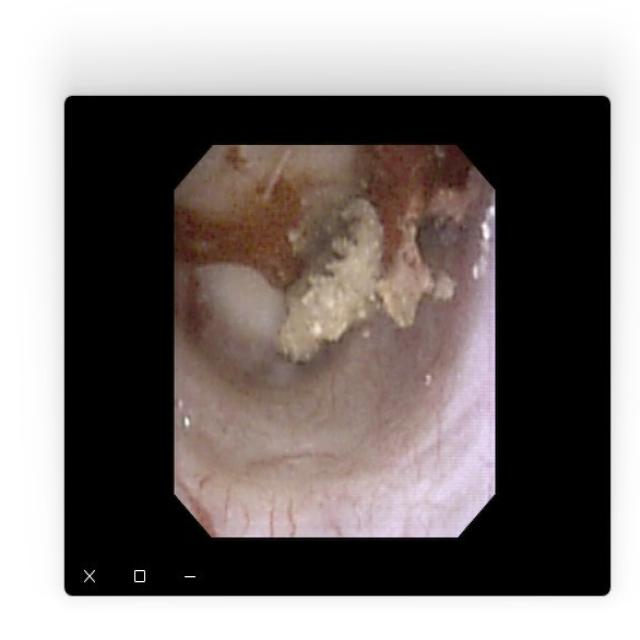stone: (278, 180, 472, 358)
